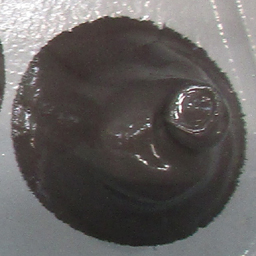perfect: (9, 11, 247, 248)
